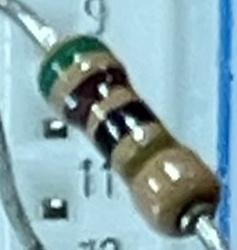Black: (54, 56, 135, 134), (86, 94, 161, 166)
Green: (36, 33, 114, 101)
Side-Gold: (116, 126, 185, 189)
